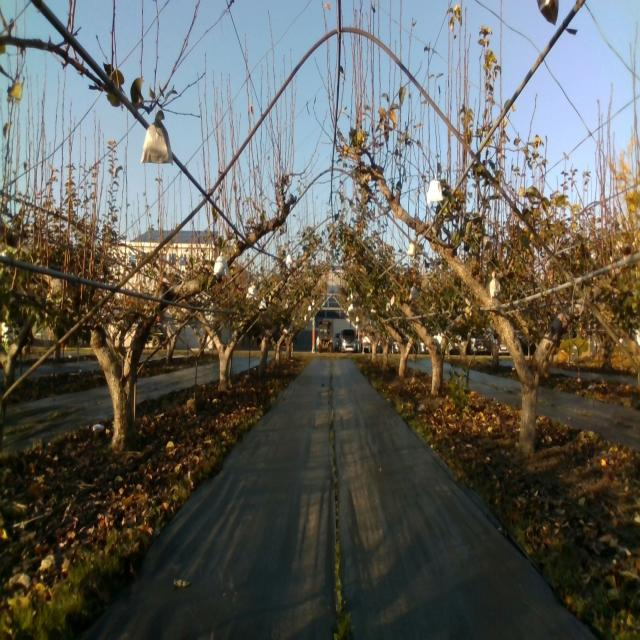pearbags: (141, 122, 172, 166), (536, 0, 559, 27), (426, 175, 442, 207), (213, 251, 230, 278), (490, 270, 501, 298), (246, 282, 258, 301)
